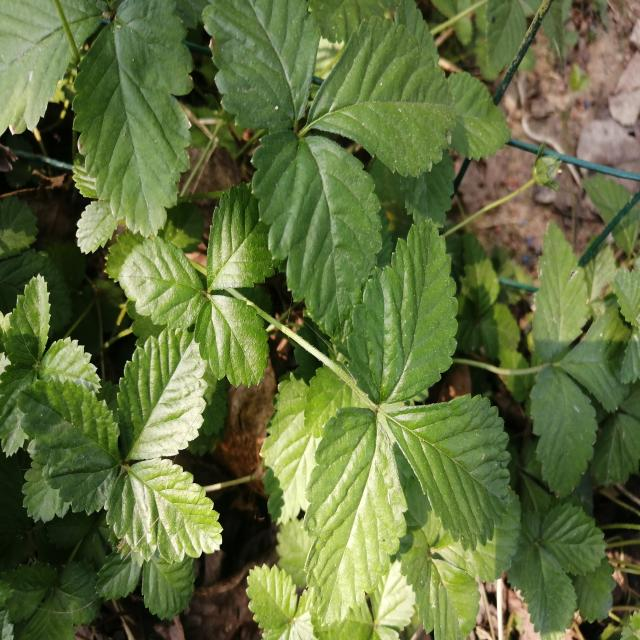Mock_strawberry: (350, 236, 522, 613)
